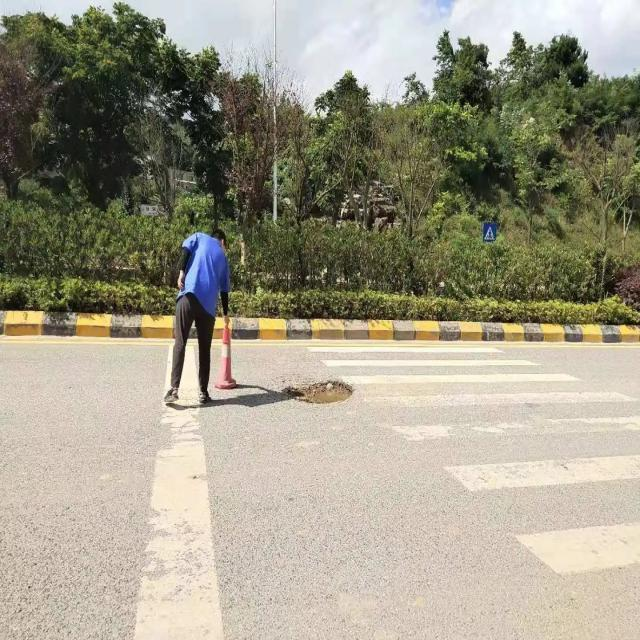Buraco: (280, 378, 358, 406)
